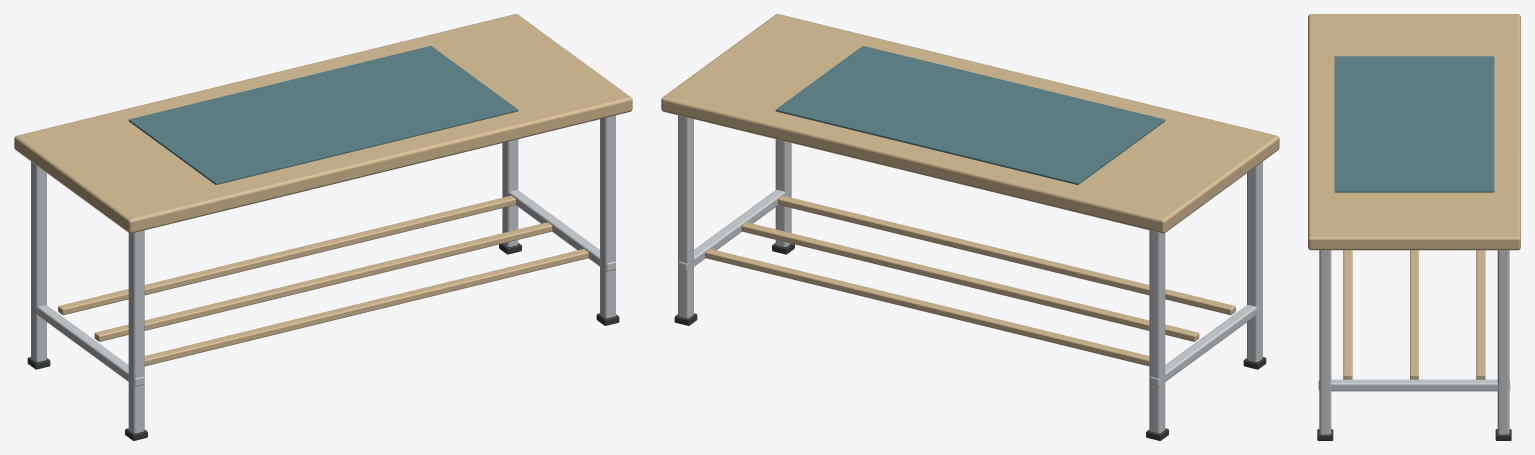
The model's file is candlemaking-and-soap-workshop-packing-counter-918172eb__30688.glb.
3 renders of one model, left to right at view 1: azimuth 30°, elevation 25°; view 2: azimuth 150°, elevation 25°; view 3: azimuth 270°, elevation 25°, orthographic. The views are drawn at different scales.
Parts seen in each view (by area): view 1: packing-counter; view 2: packing-counter; view 3: packing-counter.
Part boxes in pixels (left/top/right/bottom): packing-counter: left=14, top=14, right=632, bottom=440; packing-counter: left=661, top=14, right=1279, bottom=440; packing-counter: left=1308, top=14, right=1520, bottom=440.
Bounding box in the file's own units: 2 × 0.868 × 0.7999.
